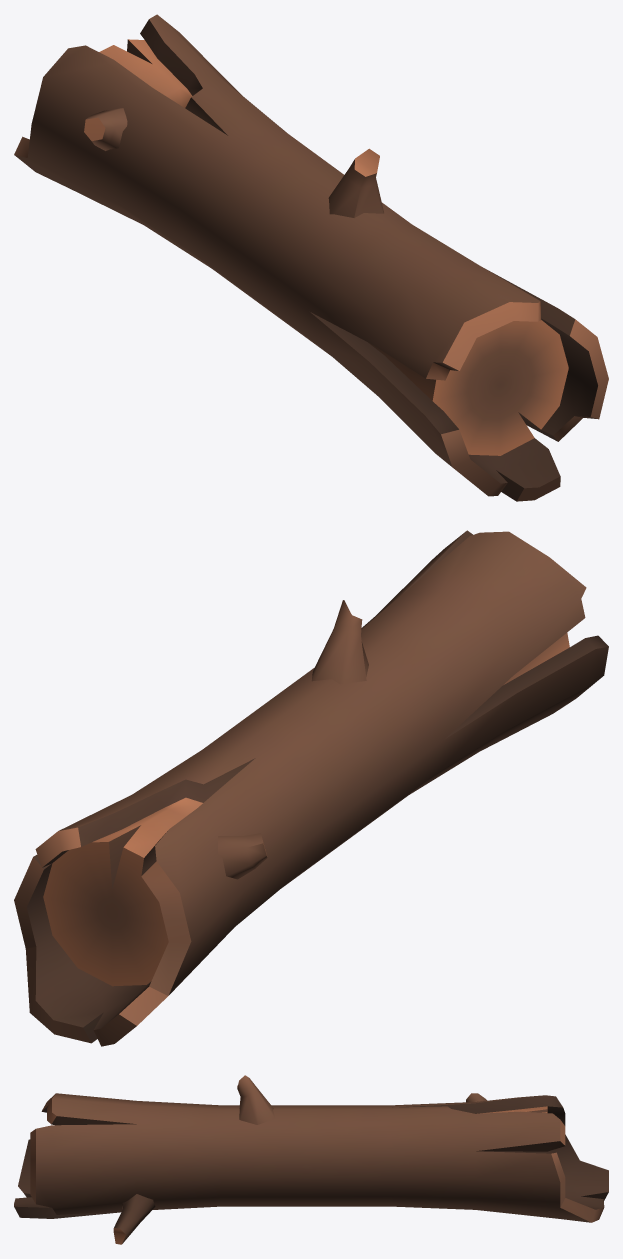
The model's file is Tree_Log_1B.fbx.
The picture shows the model from 3 angles, top to bottom: view 1: azimuth 30°, elevation 25°; view 2: azimuth 150°, elevation 25°; view 3: azimuth 270°, elevation 25°; orthographic projection. The views are drawn at different scales.
Parts seen in each view (by area): view 1: Tree_Log_1B; view 2: Tree_Log_1B; view 3: Tree_Log_1B.
Part boxes in pixels (x1,y1,x2,y2): Tree_Log_1B: (14,14,608,501); Tree_Log_1B: (14,530,608,1046); Tree_Log_1B: (14,1075,608,1244).
Size of the model in its own units: 79.97 by 87.09 by 328.
